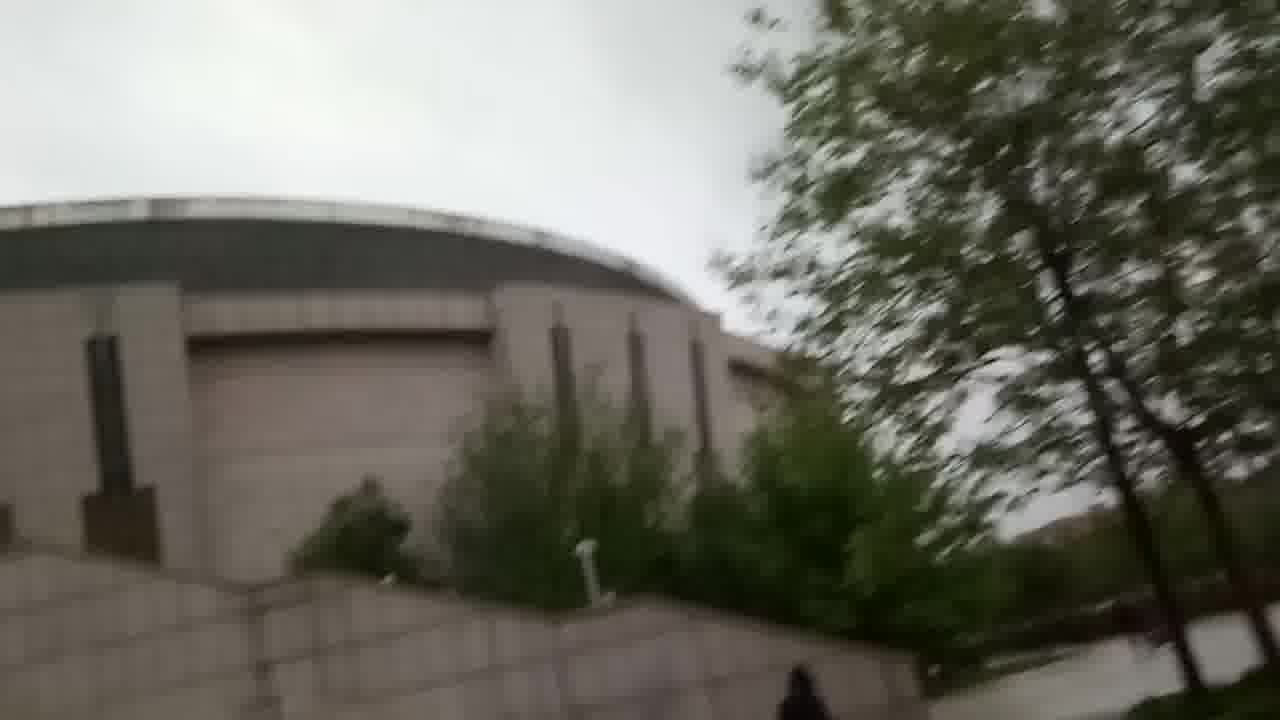zhongtiww: (5, 195, 921, 720)
